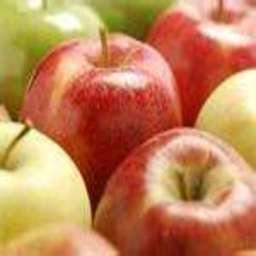apple: (19, 36, 181, 203), (94, 127, 255, 252), (147, 1, 255, 121)
